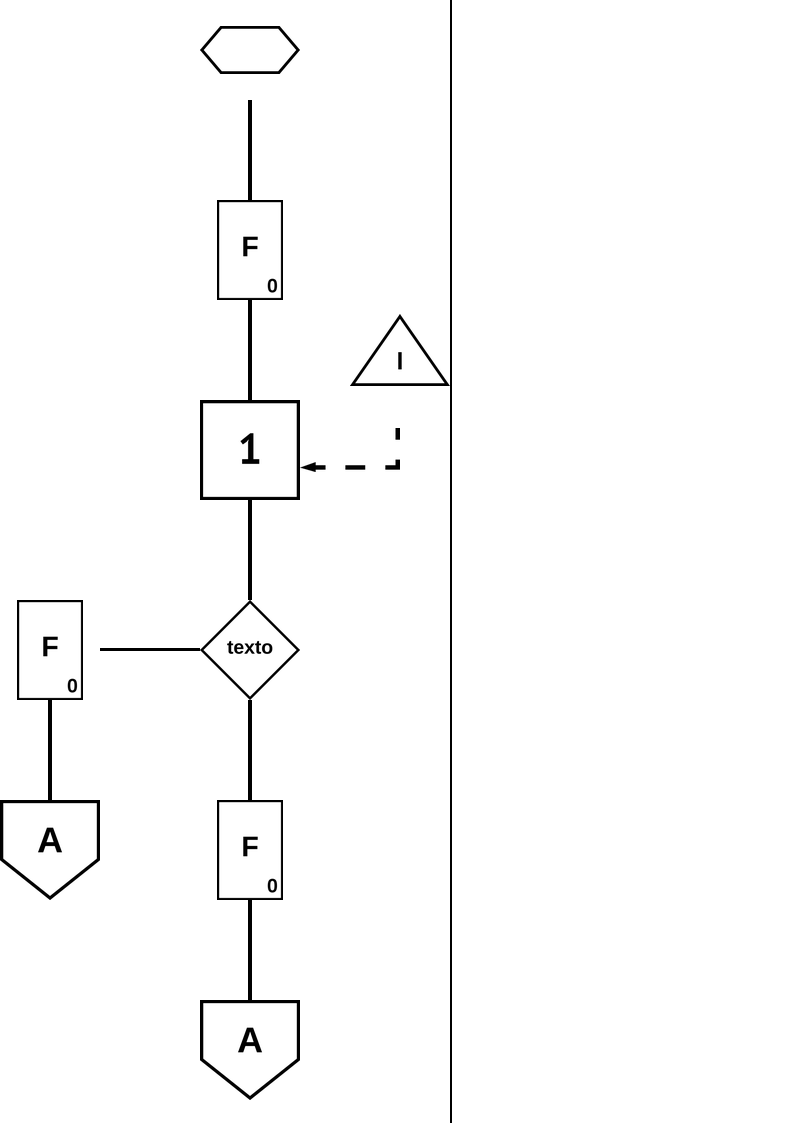archivoDefinitivo: (350, 314, 450, 386)
conector_comienzoCorte: (200, 1000, 300, 1100), (0, 800, 100, 900)
consultaLogica_flecha: (300, 428, 400, 472)
control: (200, 400, 300, 500)
decision: (200, 600, 300, 700)
documento: (217, 200, 283, 300), (217, 800, 283, 900), (17, 600, 83, 700)
proceso: (200, 26, 300, 74)
trasladoDeInformacion_horizontal: (100, 628, 200, 671)
trasladoDeInformacion_vertical: (228, 100, 272, 200), (228, 300, 272, 400), (228, 500, 272, 600), (228, 700, 272, 800), (228, 900, 272, 1000), (28, 700, 72, 800)
